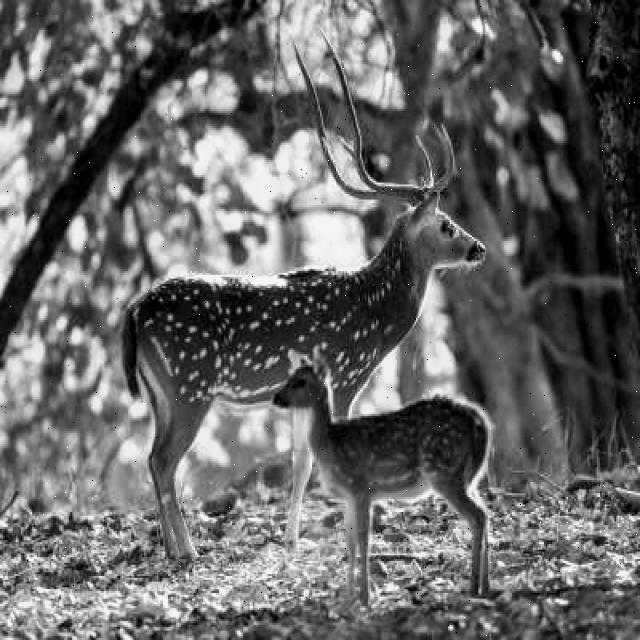deer: (292, 36, 500, 280), (270, 355, 344, 428)
